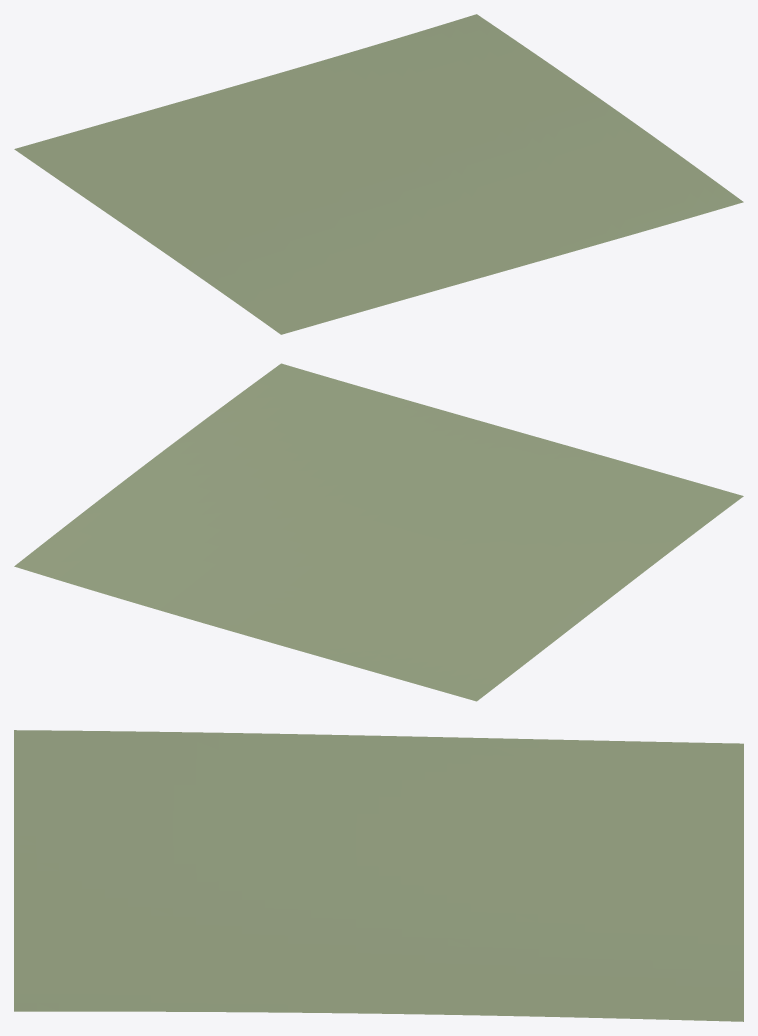
The model's file is expanse-19-13.glb.
3 views of the same model, one above another, from view 1: azimuth 30°, elevation 25°; view 2: azimuth 150°, elevation 25°; view 3: azimuth 270°, elevation 25° (orthographic). The views are drawn at different scales.
Parts seen in each view (by area): view 1: expanse-19-13; view 2: expanse-19-13; view 3: expanse-19-13.
Boxes of the visible parts, <box> form: expanse-19-13: <box>14,14,743,334</box>; expanse-19-13: <box>14,363,743,701</box>; expanse-19-13: <box>14,730,743,1021</box>.
Bounding box in the file's own units: 256 × 15.67 × 256.
